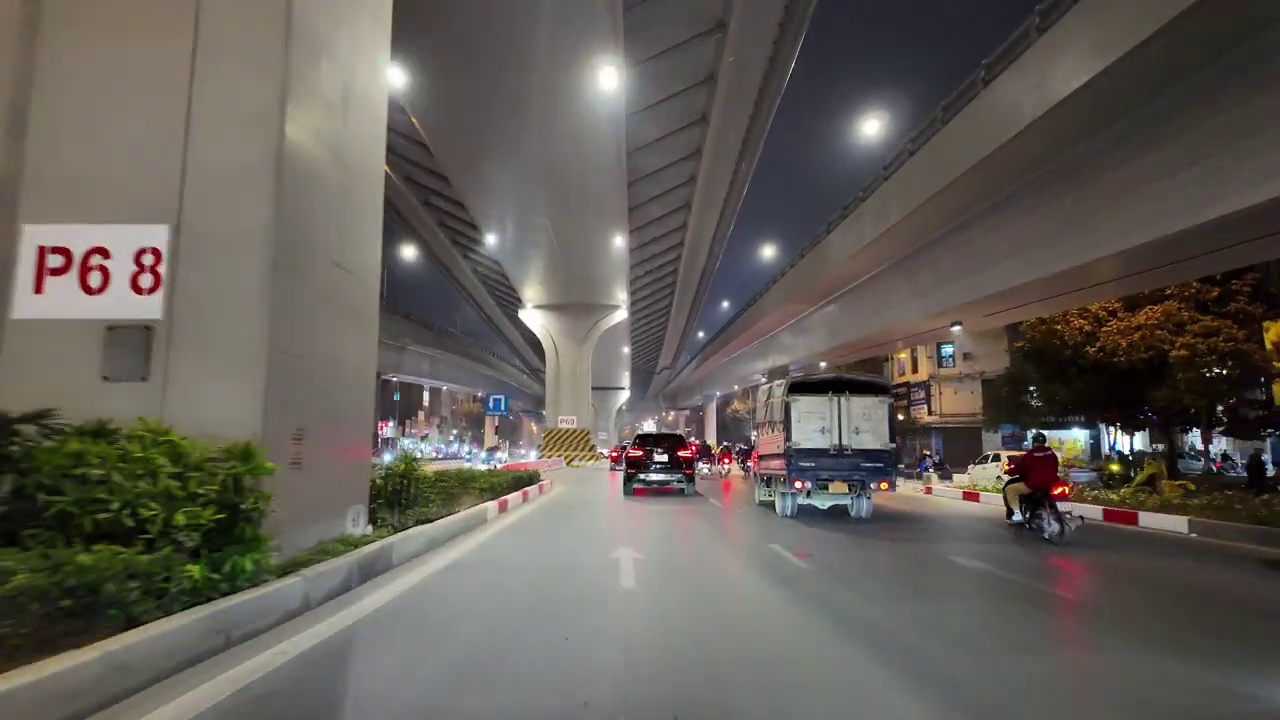acesa: (374, 48, 416, 96), (587, 57, 625, 96), (853, 110, 887, 142), (519, 276, 548, 308), (394, 239, 423, 266), (754, 238, 781, 265), (606, 229, 628, 258), (480, 229, 502, 252)
